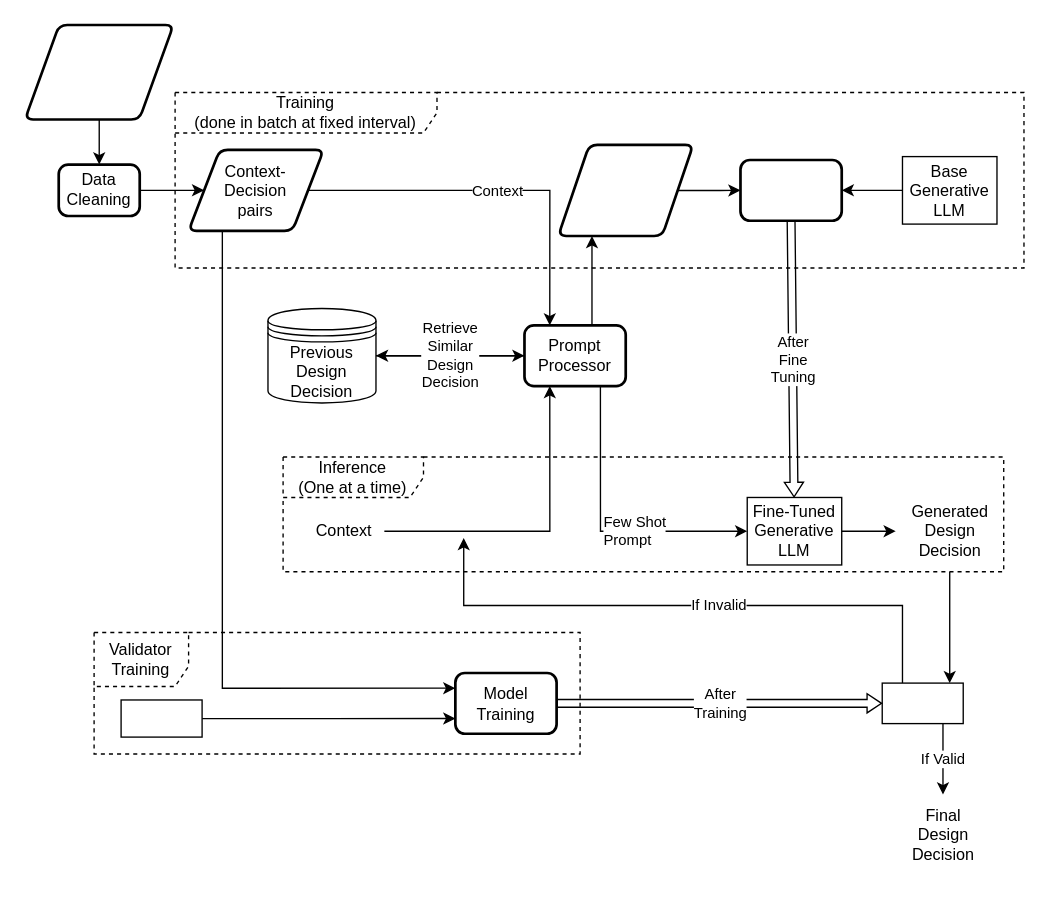
Some shapes in this 1048 by 898 pixel diagram are drawn without their labels. Here are the shapes that lost their labels. From the top down, the centre of each, then its label:
At pixel 98 71: "Dataset of Architecture Decision Records".
At pixel 625 190: "Training Data with Few shot prompt".
At pixel 790 189: "LLM Fine Tuning".
At pixel 161 718: "Encoder LLM".
At pixel 922 703: "Validator".
